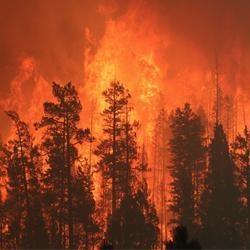fire: (96, 44, 166, 132)
